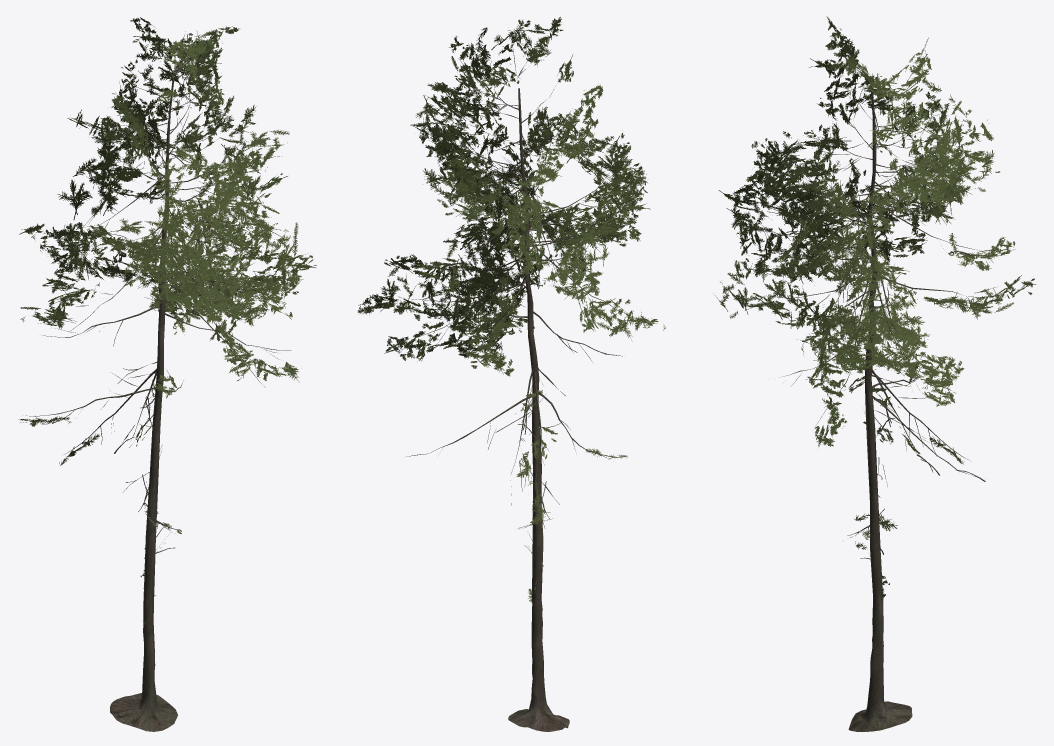
The picture shows the model from 3 angles, left to right: view 1: azimuth 30°, elevation 25°; view 2: azimuth 150°, elevation 25°; view 3: azimuth 270°, elevation 25°; orthographic projection. The views are drawn at different scales.
Visible parts, largest first — view 1: fir_tree_01__c_lod1; view 2: fir_tree_01__c_lod1; view 3: fir_tree_01__c_lod1.
Part boxes in pixels (x1,y1,x2,y2): fir_tree_01__c_lod1: [19, 17, 316, 731]; fir_tree_01__c_lod1: [358, 17, 665, 731]; fir_tree_01__c_lod1: [713, 16, 1036, 731].
Size of the model in its own units: 6.44 by 14.61 by 6.21.
2 materials, 2 textured.
